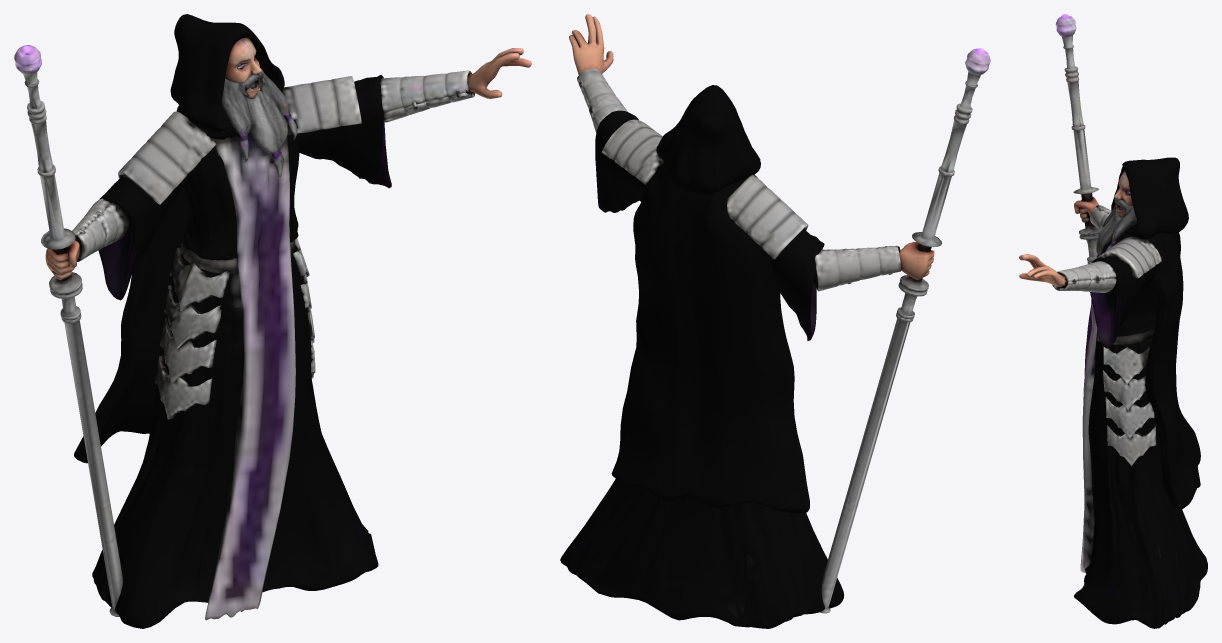
The model's file is MZ4250 - Archpriest Male_2 2025.glb.
3 views of the same model, side by side, from view 1: azimuth 30°, elevation 25°; view 2: azimuth 150°, elevation 25°; view 3: azimuth 270°, elevation 25° (orthographic). The views are drawn at different scales.
Parts seen in each view (by area): view 1: Body.002; view 2: Body.002; view 3: Body.002.
Boxes of the visible parts, x1,y1,x2,y2 form: Body.002: (14,14,531,628); Body.002: (560,14,990,628); Body.002: (1019,14,1207,628).
Bounding box in the file's own units: 83.74 × 104 × 37.4.
Materials: 3 (3 with a texture image).
